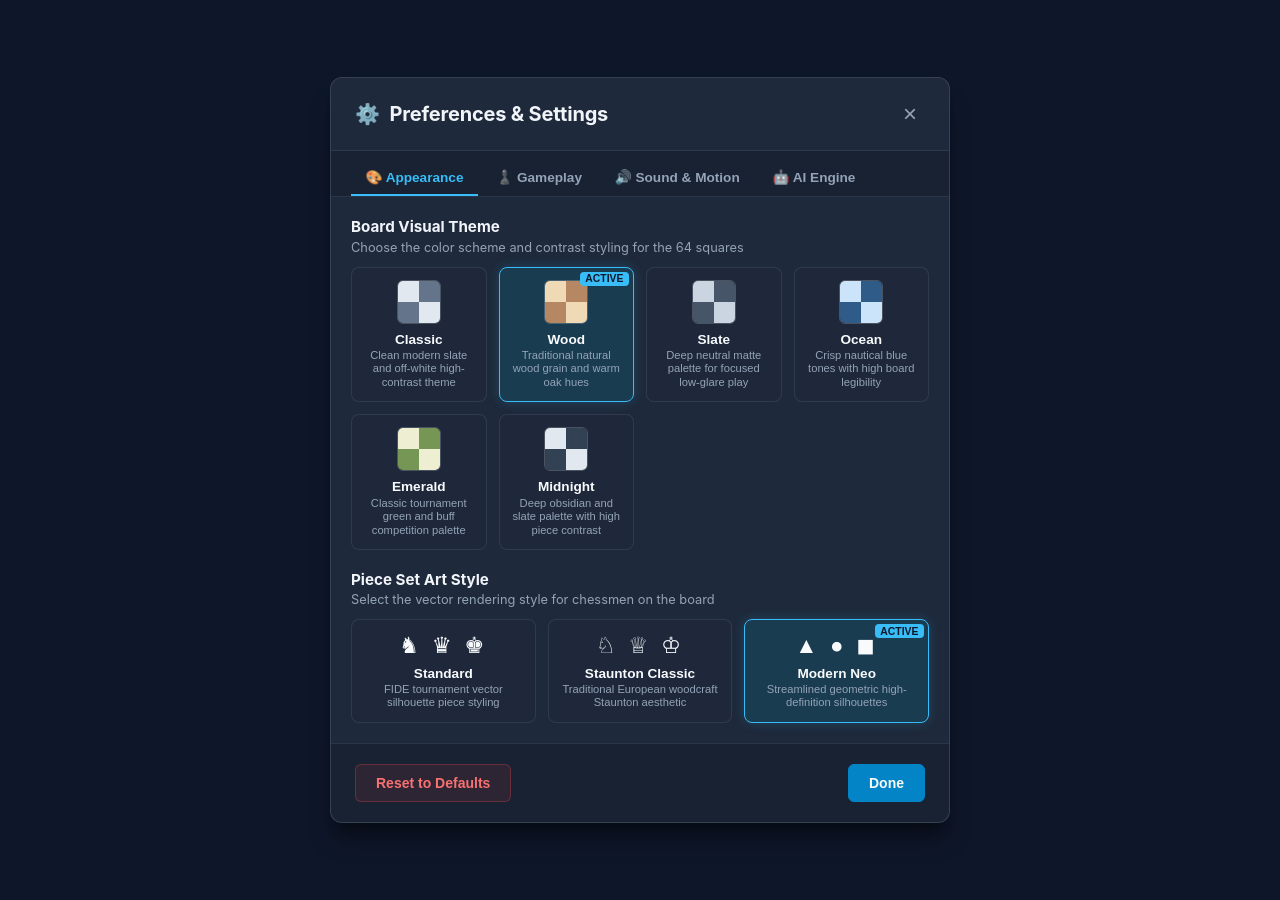
Test: Phase 08 · Sprint 06: SettingsModal Component & Integration (TC-SETUI-01 to TC-SETUI-20) › TC-SETUI-16 to TC-SETUI-18: opens confirmation before resetting settings and restores defaults on confirm
# Click Reset to Defaults
Click the button with test id "btn-reset-settings": (433, 783) 355,764 -> 511,802
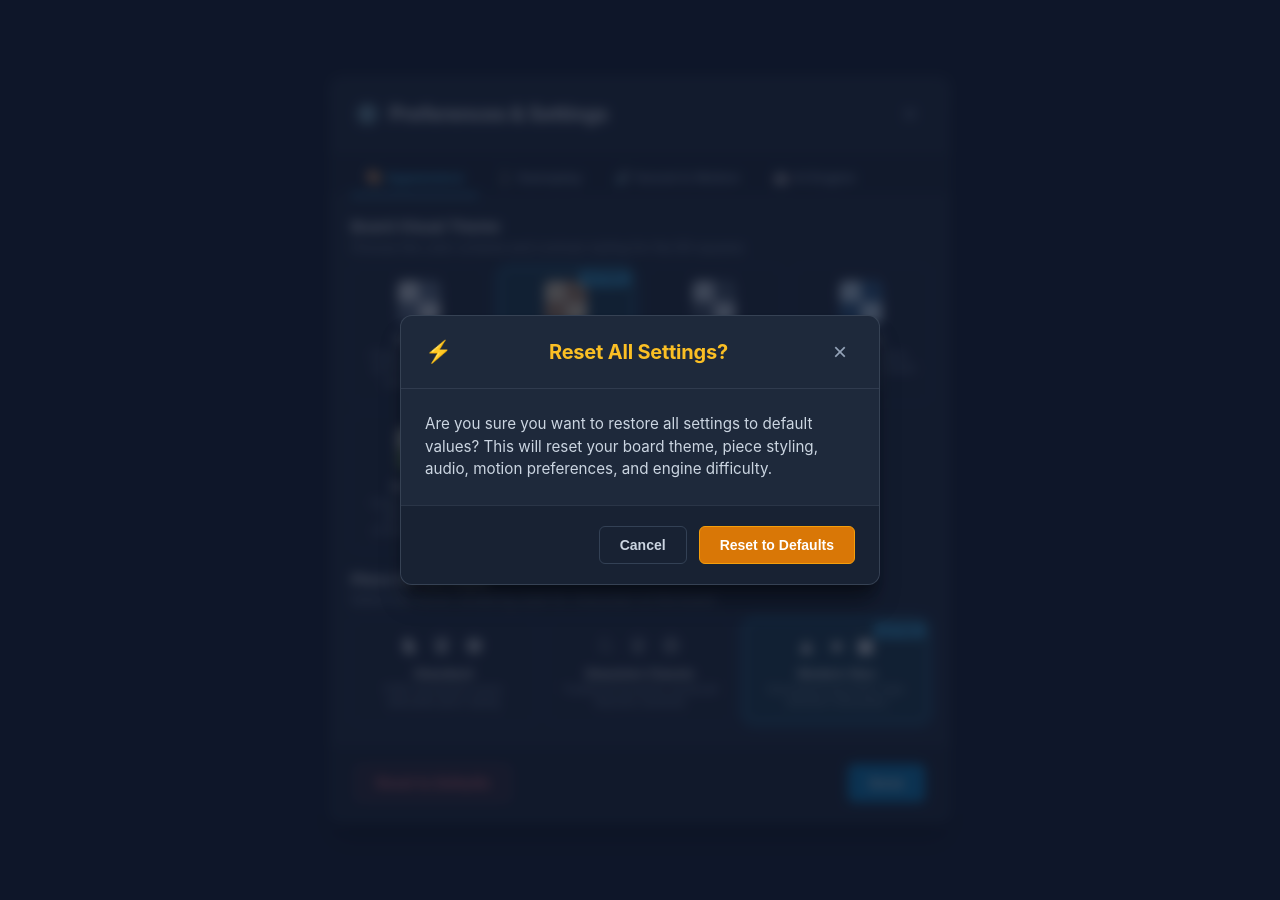
Check: the dialog with test id "reset-settings-confirm-modal" is shown, box 400,315 -> 880,585
# Cancel reset first
Click the button with test id "btn-cancel-reset-settings": (643, 545) 599,526 -> 687,564
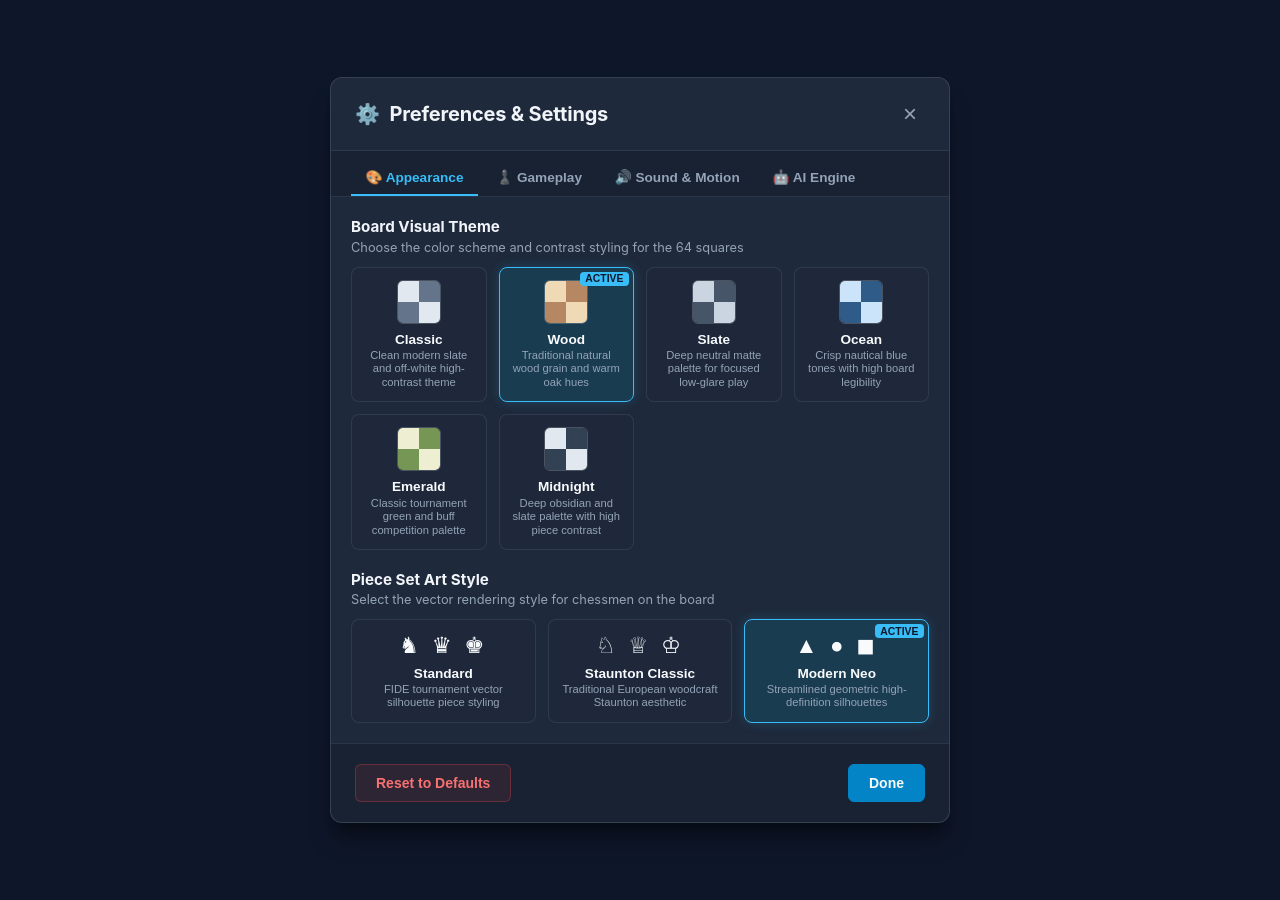
Check: the dialog with test id "reset-settings-confirm-modal" is gone
# Reopen and confirm reset
Click the button with test id "btn-reset-settings": (433, 783) 355,764 -> 511,802
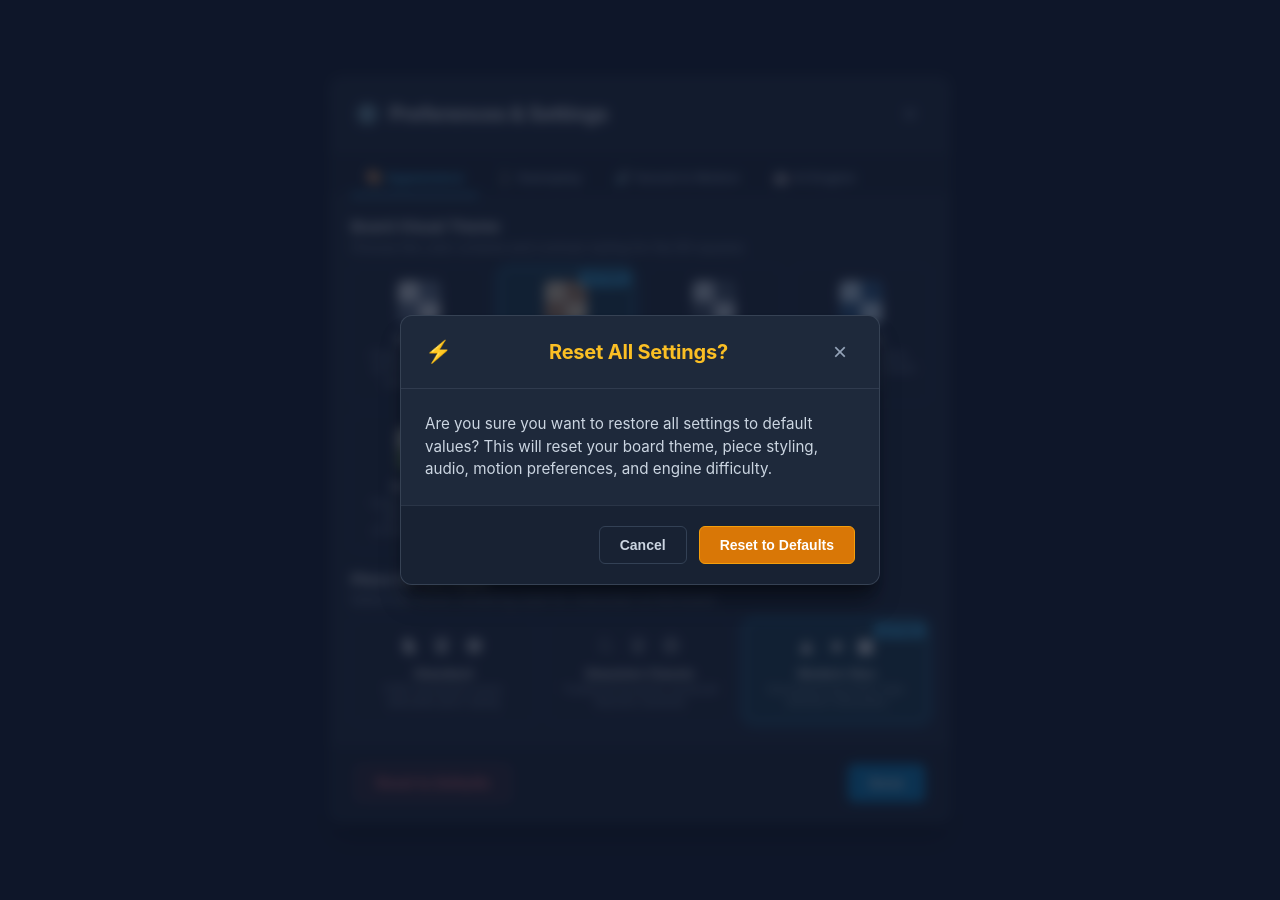
Click the button with test id "btn-confirm-reset-settings": (777, 545) 699,526 -> 855,564
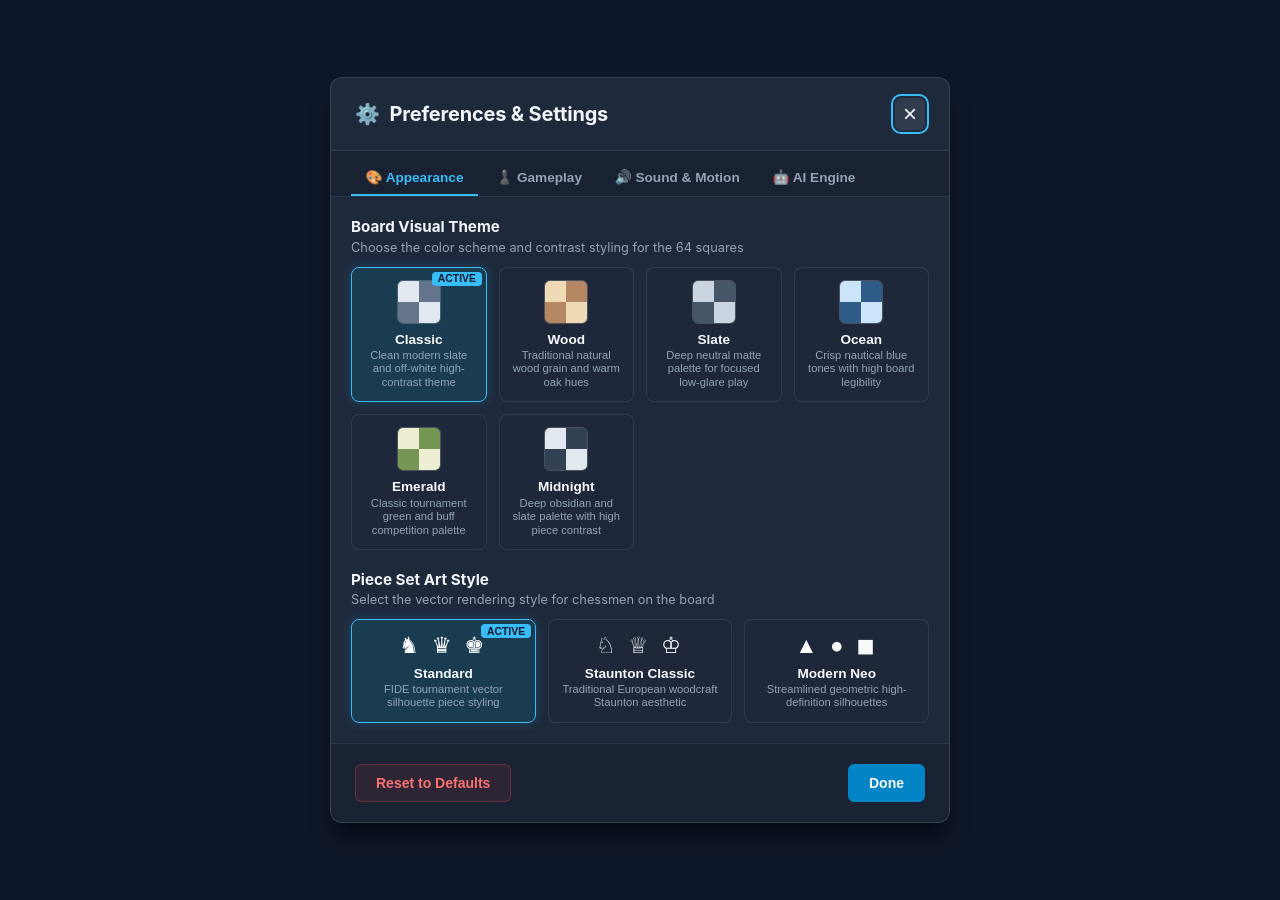
Check: the dialog with test id "reset-settings-confirm-modal" is gone
